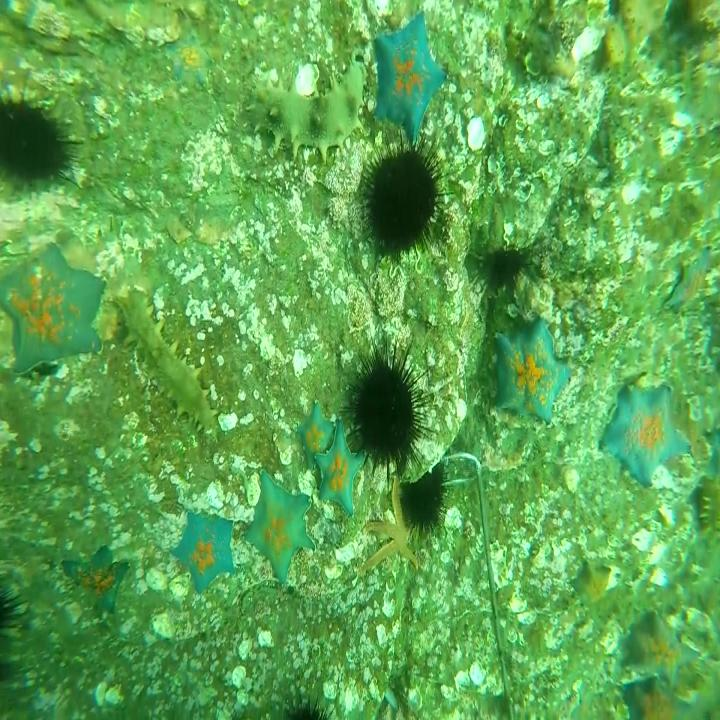echinus: (336, 329, 434, 486), (356, 132, 450, 266), (0, 84, 86, 202), (395, 454, 448, 539)
holothurian: (246, 59, 367, 159)
scallop: (111, 284, 219, 441)
starfish: (0, 236, 107, 374), (371, 7, 450, 147), (599, 377, 692, 488), (496, 317, 572, 423), (247, 463, 314, 583), (173, 507, 238, 589), (63, 543, 129, 619), (636, 607, 696, 688), (314, 422, 360, 520), (168, 25, 218, 96), (666, 253, 710, 323), (569, 555, 616, 610), (296, 398, 332, 465)
